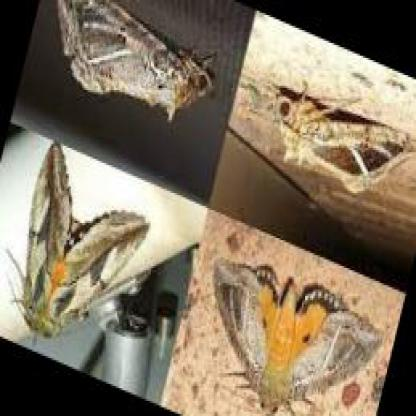fruit sucking moth: (214, 260, 386, 414), (23, 143, 149, 341)
